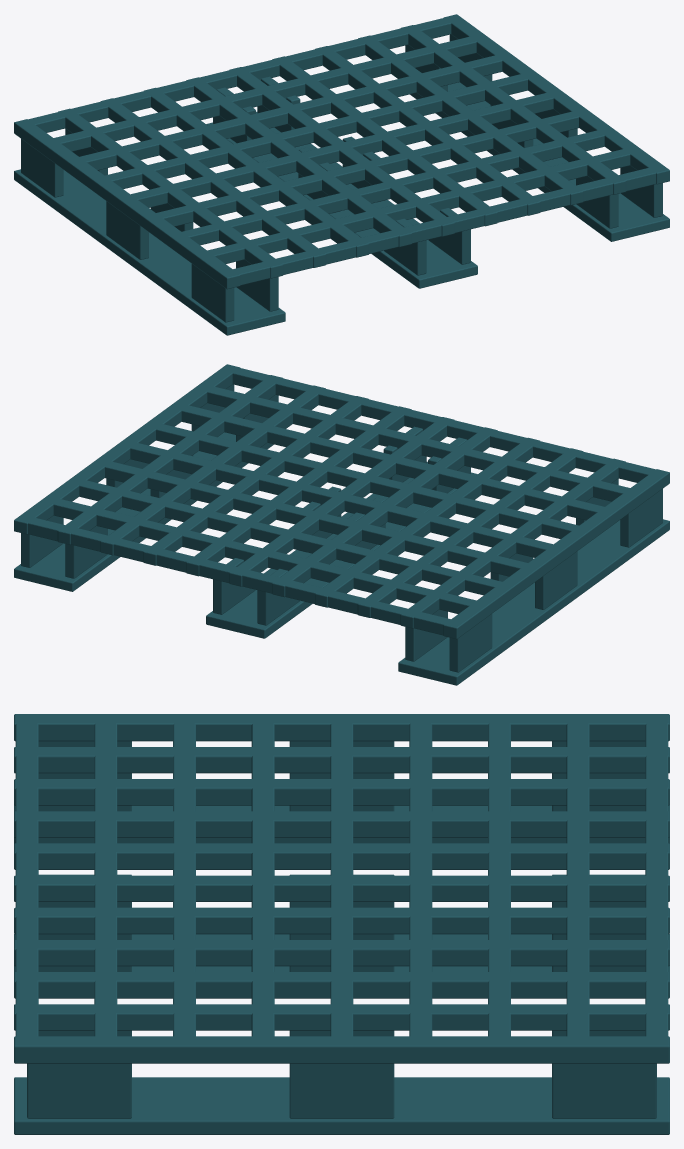
File: plastic-pallet.glb
The picture shows the model from 3 angles, top to bottom: view 1: azimuth 30°, elevation 25°; view 2: azimuth 150°, elevation 25°; view 3: azimuth 270°, elevation 25°; orthographic projection. The views are drawn at different scales.
Parts seen in each view (by area): view 1: Bottom_Runner.001, Deck_Rib_X, Deck_Rib_X.003, Deck_Rib_X.005, Deck_Rib_X.002, Deck_Rib_X.004, Deck_Rib_X.006, Deck_Rib_X.007, Deck_Rib_X.008, Deck_Rib_X.001, Deck_Rib_Y.009, Deck_Rib_Y.001 (+21 smaller); view 2: Bottom_Runner.001, Deck_Rib_X.008, Deck_Rib_X.005, Deck_Rib_X.003, Deck_Rib_X.002, Deck_Rib_X.006, Deck_Rib_X.001, Deck_Rib_X, Deck_Rib_X.004, Deck_Rib_X.007, Deck_Rib_Y.009, Deck_Rib_Y.004 (+21 smaller); view 3: Bottom_Runner, Deck_Rib_Y.006, Deck_Rib_Y.005, Deck_Rib_Y.009, Deck_Rib_Y.008, Deck_Rib_Y.007, Deck_Rib_Y.003, Deck_Edge.001, Deck_Rib_Y.001, Deck_Rib_Y.002, Deck_Rib_Y.004, Deck_Rib_Y (+23 smaller).
Part boxes in pixels (x1,y1,x2,y2): Bottom_Runner.001: (14,169,285,335); Deck_Rib_X: (219,164,668,288); Deck_Rib_X.003: (142,108,591,231); Deck_Rib_X.005: (91,71,540,194); Deck_Rib_X.002: (168,127,617,250); Deck_Rib_X.004: (117,90,565,213); Deck_Rib_X.006: (65,52,514,175); Deck_Rib_X.007: (40,33,488,157); Deck_Rib_X.008: (14,15,463,138); Deck_Rib_X.001: (193,146,642,269); Deck_Rib_Y.009: (401,25,626,194); Deck_Rib_Y.001: (58,108,283,278); Bottom_Runner.001: (398,519,669,685); Deck_Rib_X.008: (15,514,464,638); Deck_Rib_X.005: (92,458,541,581); Deck_Rib_X.003: (143,421,592,544); Deck_Rib_X.002: (169,402,618,525); Deck_Rib_X.006: (66,477,515,600); Deck_Rib_X.001: (195,384,643,507); Deck_Rib_X: (220,365,669,488); Deck_Rib_X.004: (117,440,566,563); Deck_Rib_X.007: (41,496,490,619); Deck_Rib_Y.009: (57,375,282,544); Deck_Rib_Y.004: (272,427,497,597); Bottom_Runner: (14,1077,669,1134); Deck_Rib_Y.006: (14,907,669,934); Deck_Rib_Y.005: (14,875,669,901); Deck_Rib_Y.009: (14,1004,669,1030); Deck_Rib_Y.008: (14,972,669,998); Deck_Rib_Y.007: (14,940,669,966); Deck_Rib_Y.003: (14,811,669,837); Deck_Edge.001: (14,1041,669,1063); Deck_Rib_Y.001: (14,747,669,773); Deck_Rib_Y.002: (14,779,669,805); Deck_Rib_Y.004: (14,843,669,869); Deck_Rib_Y: (14,714,669,741).
Size of the model in its own units: 1.2 by 0.15 by 1.
